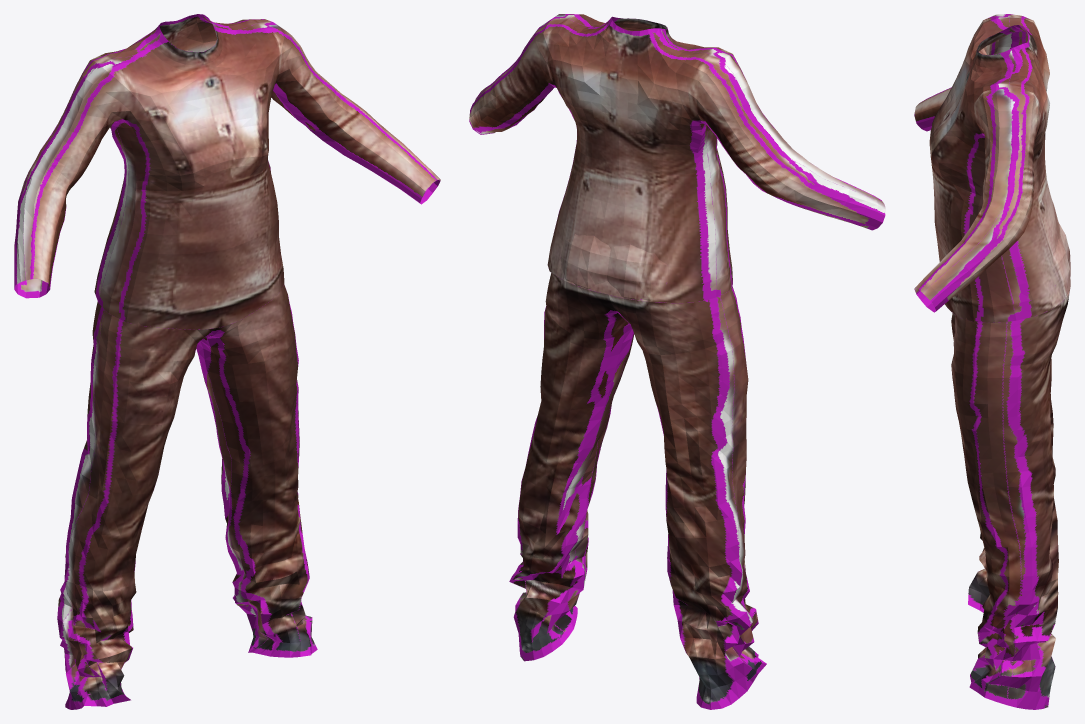
3 renders of one model, left to right at view 1: azimuth 30°, elevation 25°; view 2: azimuth 150°, elevation 25°; view 3: azimuth 270°, elevation 25°, orthographic. The views are drawn at different scales.
Bounding box in the file's own units: 0.638 × 0.9602 × 0.2158.
1 material, 1 textured.
